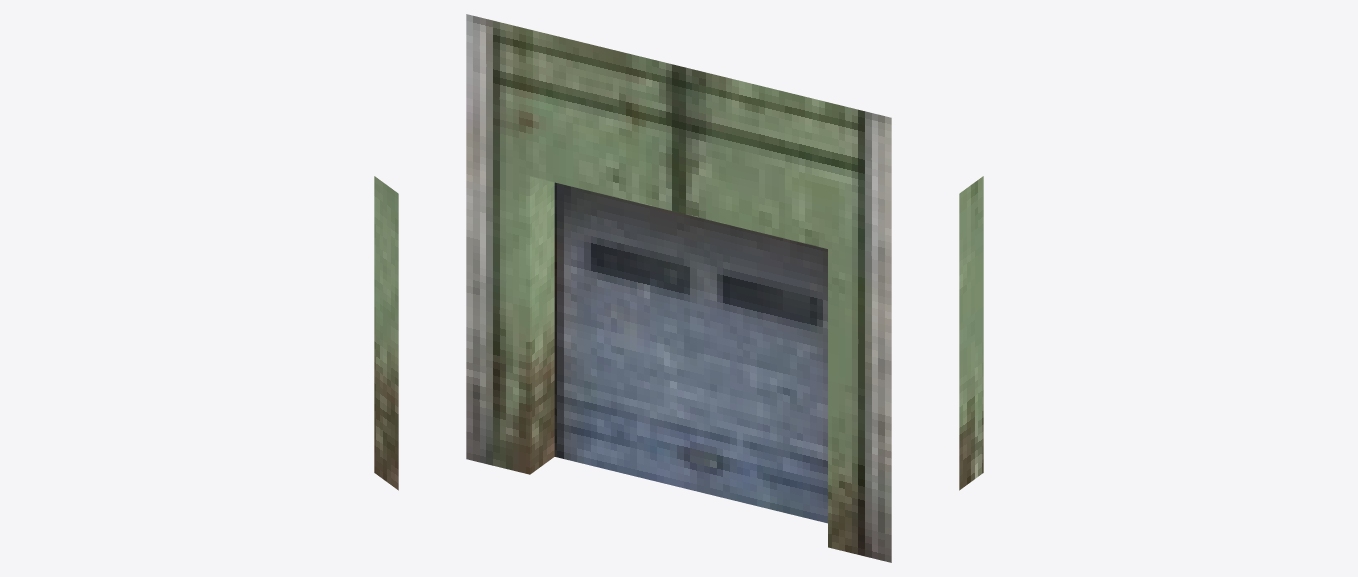
Rendered from wall-b-flat-garage.glb.
3 views of the same model, side by side, from view 1: azimuth 30°, elevation 25°; view 2: azimuth 150°, elevation 25°; view 3: azimuth 330°, elevation 25° (orthographic).
Visible parts, largest first — view 1: wall-b-flat-garage; view 2: wall-b-flat-garage; view 3: wall-b-flat-garage.
Part boxes in pixels (box(x1,y1,x2,y2)): wall-b-flat-garage: box(374, 176, 398, 490); wall-b-flat-garage: box(466, 14, 891, 562); wall-b-flat-garage: box(959, 176, 983, 490).
Size of the model in its own units: 1 by 1 by 0.1.
2 materials, 2 textured.
